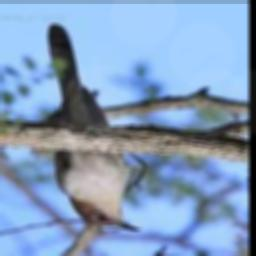Cuckoo: (46, 24, 141, 231)
